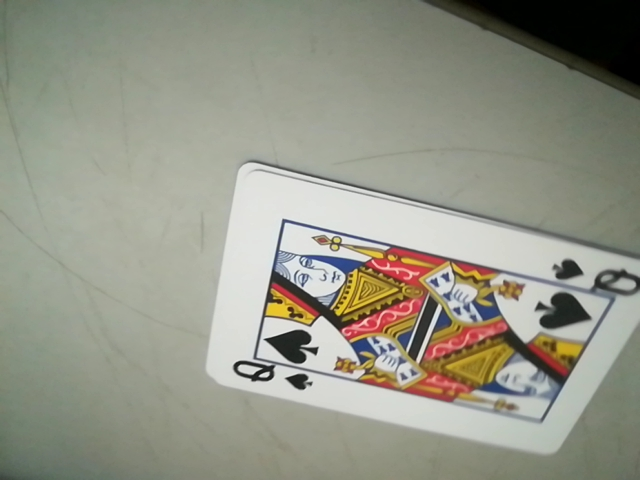ht q: (224, 356, 319, 394)
